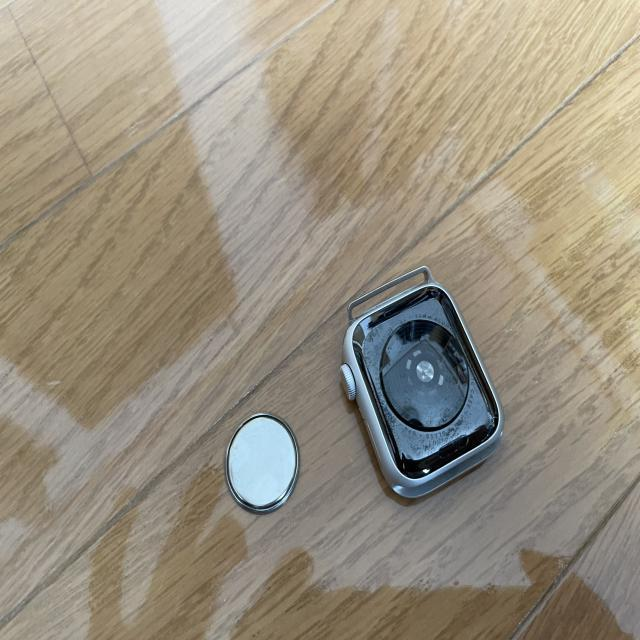COIN: (226, 412, 300, 515)
